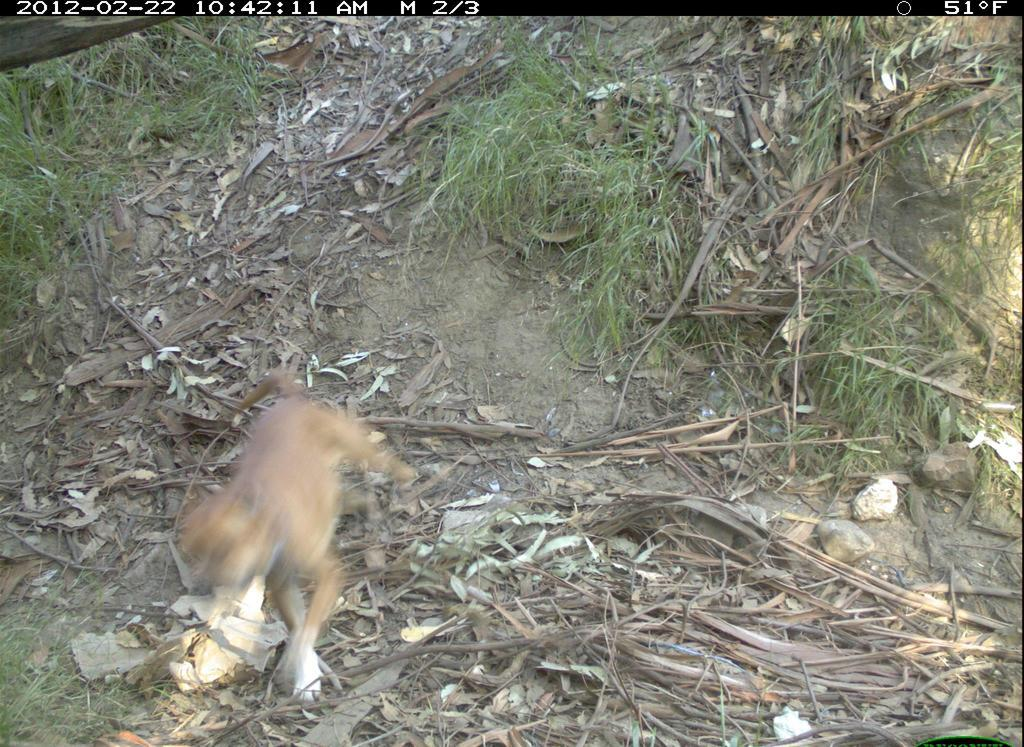dog: (169, 364, 429, 719)
